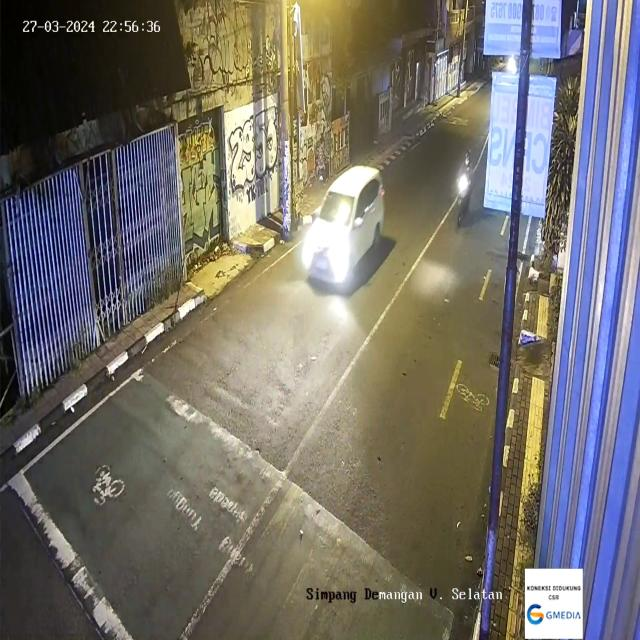car: (304, 159, 391, 287)
motorcycle: (452, 147, 472, 230)
